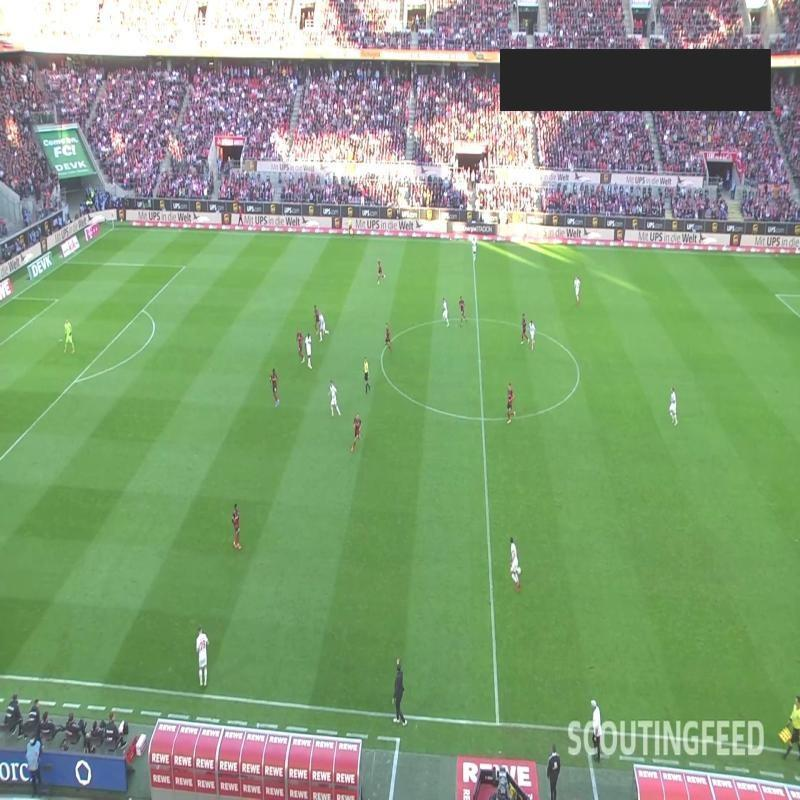1: (106, 222, 120, 236)
10: (136, 303, 150, 317)
11: (68, 374, 82, 388)
13: (465, 237, 482, 250)
14: (469, 310, 484, 326)
15: (475, 411, 490, 425)
16: (490, 714, 506, 733)
2: (58, 256, 73, 270)
3: (7, 290, 21, 303)
7: (51, 293, 65, 307)
9: (769, 287, 784, 301), (178, 262, 192, 272)
c: (373, 352, 389, 366), (570, 365, 585, 379)
